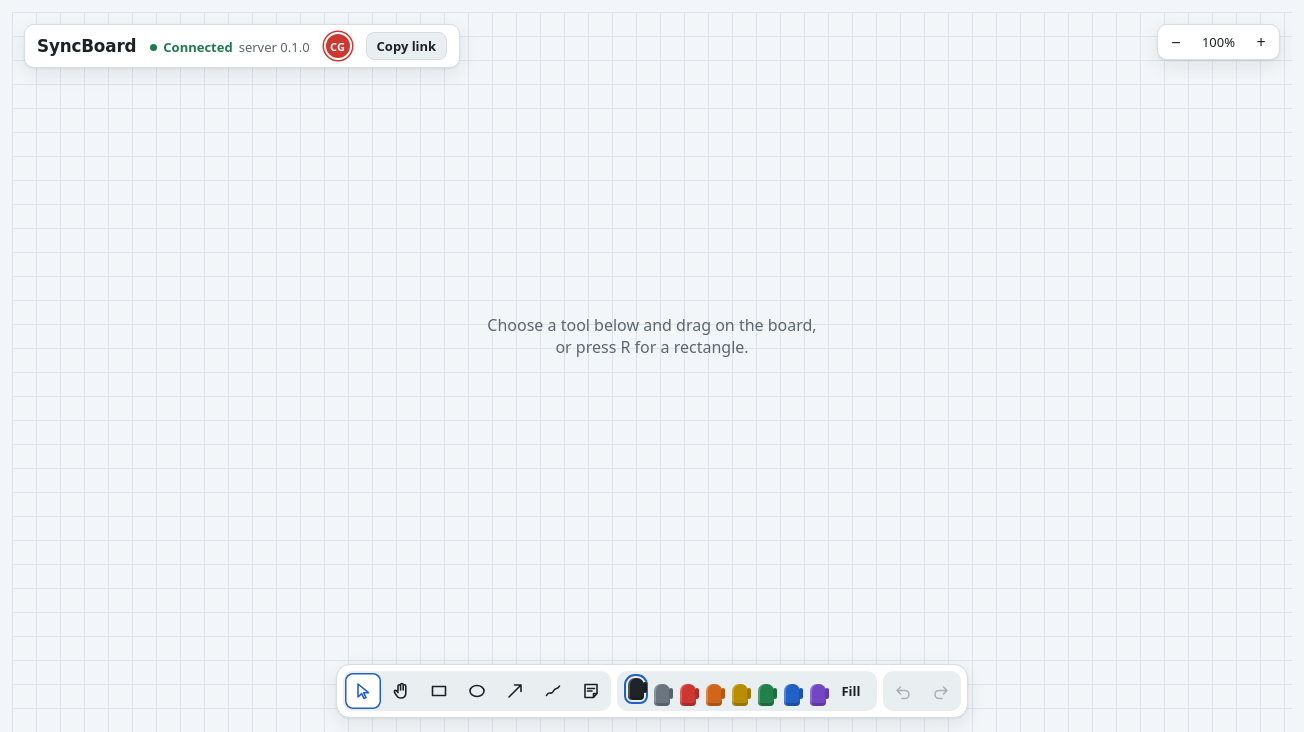
Scenario: what is drawn here is sent; what others draw appears
Press r
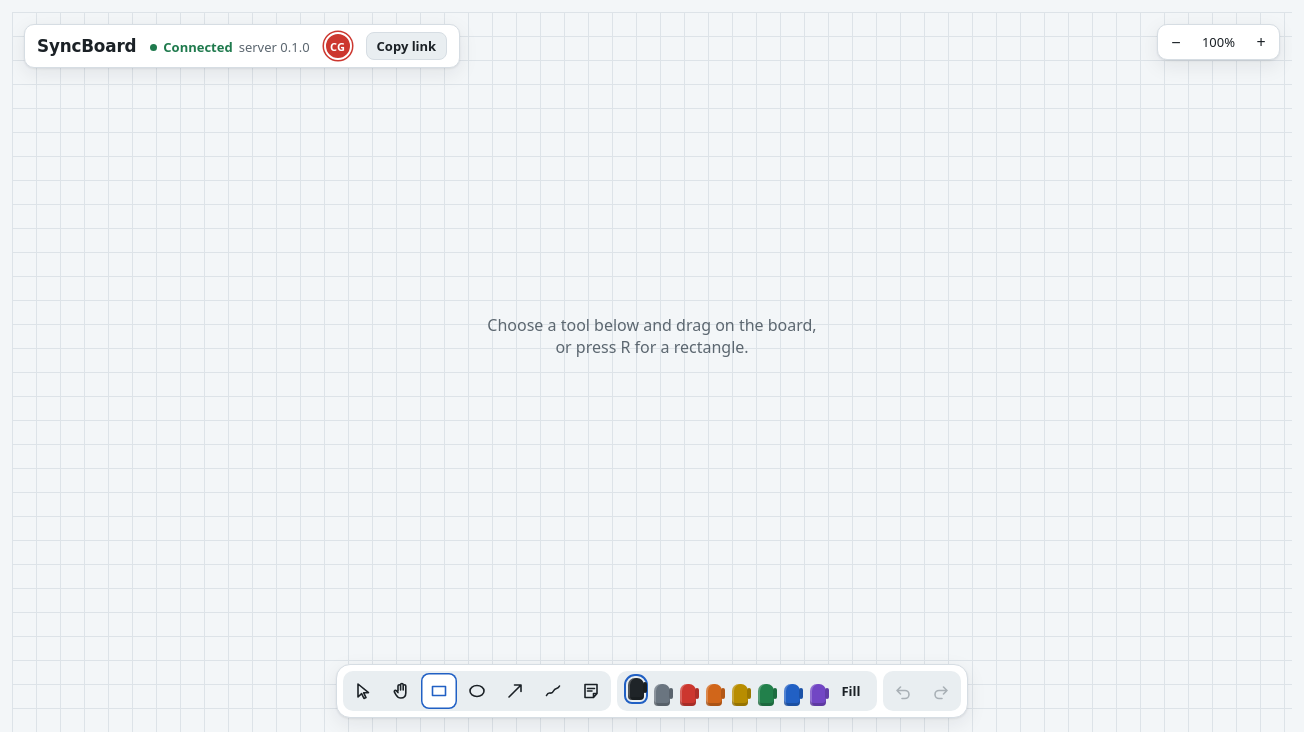
Press the mouse on the picture named "Board with" at (652, 372), box [12, 12, 1292, 731]
Wait 20 ms
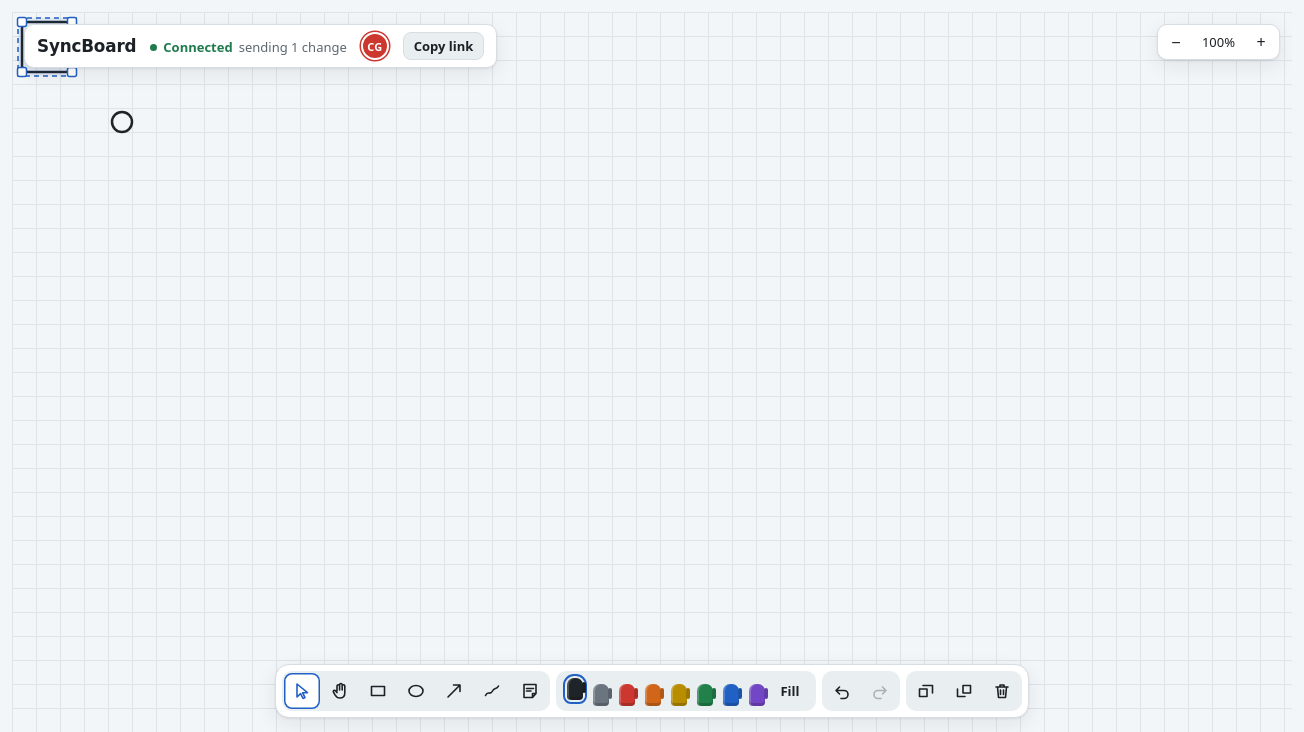
expect the picture named "Board with 2 shapes" is shown: met
